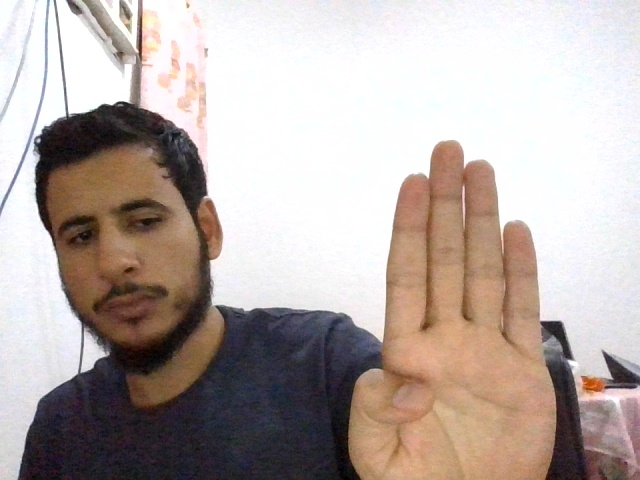Four: (346, 140, 557, 480)
